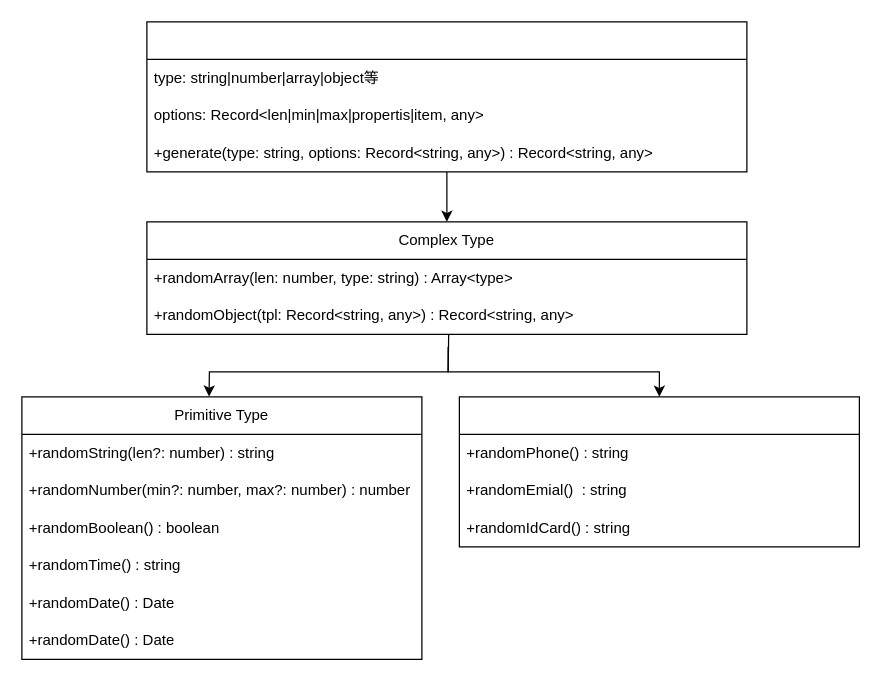
Some shapes in this 881 by 681 pixel diagram are drawn without their labels. The shapes that lost their labels are listed below. From the top down, each one's box as (x1, y1, x2, y2) in pixels, then its label:
(146, 21, 747, 172): JSON
(458, 396, 859, 547): Custom Type
